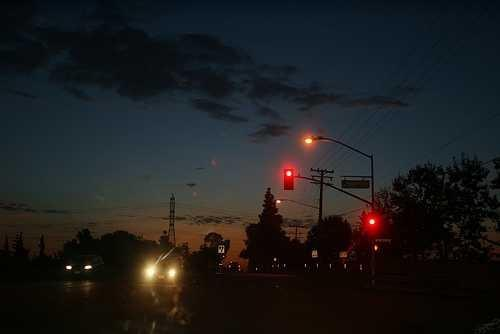red: (364, 214, 382, 241), (282, 164, 297, 193)
